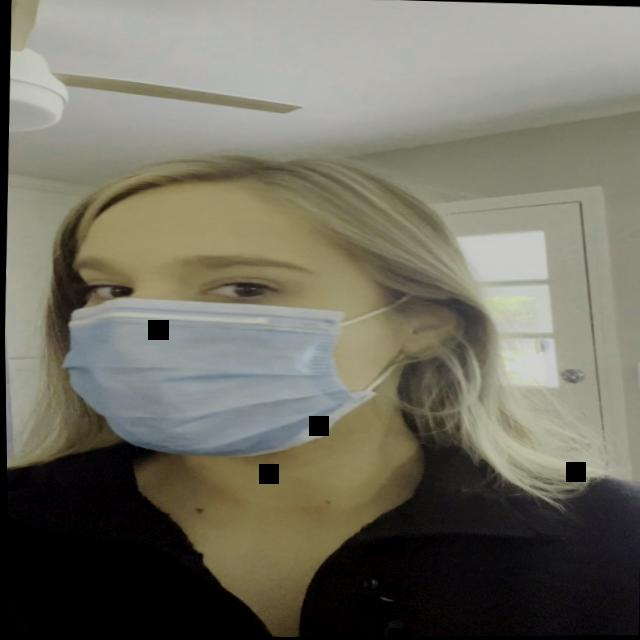Mask: (37, 168, 503, 478)
